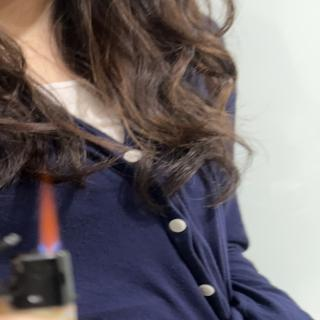fire: (37, 181, 62, 255)
